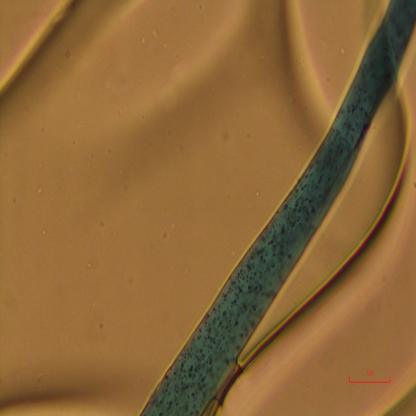Air bubble: (227, 166, 416, 413), (0, 0, 76, 108)
Background material: (264, 1, 338, 132)
Microfibre: (139, 1, 416, 415)
